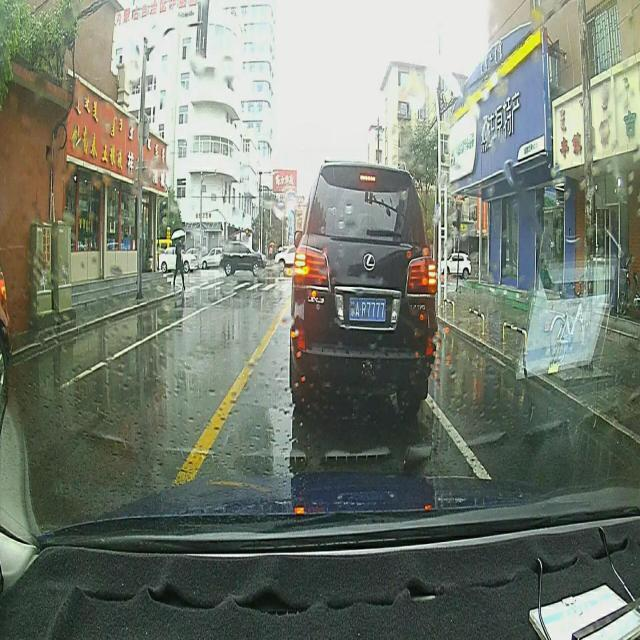car: (290, 162, 440, 410), (218, 237, 266, 273), (153, 242, 199, 270), (437, 250, 471, 278)
